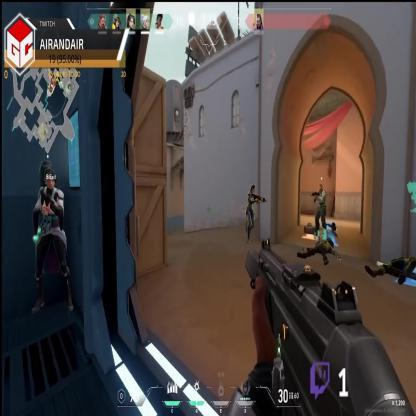enemy: (245, 184, 261, 247)
enemy_head: (250, 184, 255, 192)
